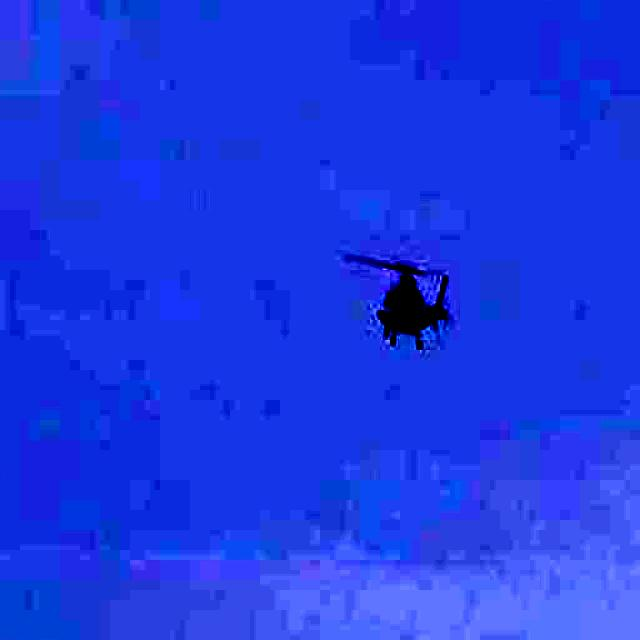drone: (320, 232, 480, 371)
